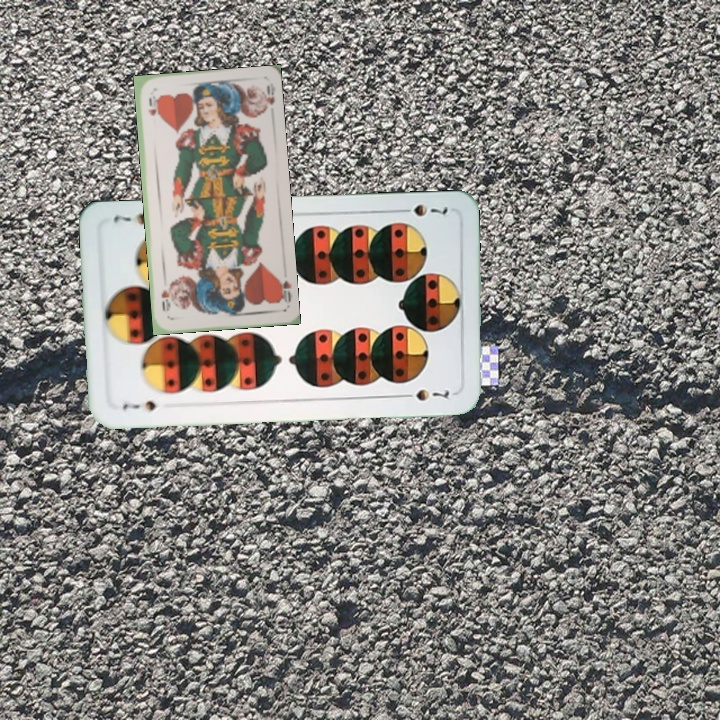HO: (273, 274, 294, 305), (144, 92, 159, 118)
S7: (393, 200, 451, 219), (118, 397, 158, 414)
